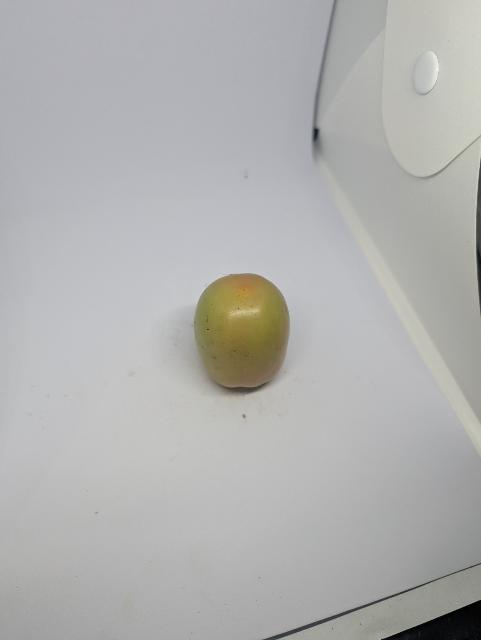breaker: (190, 270, 295, 394)
